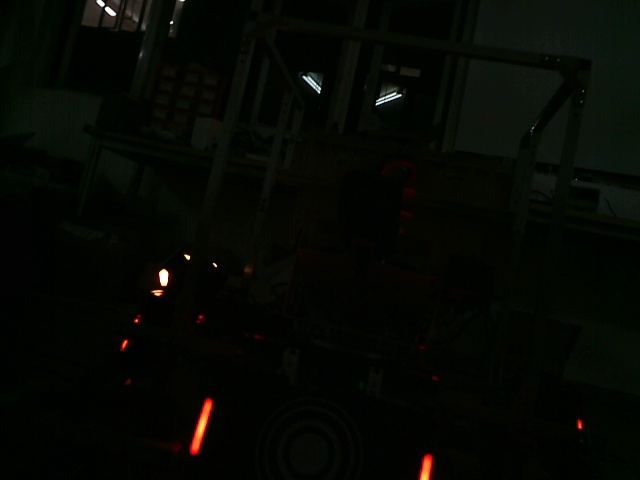lamp: (187, 395, 215, 459)
